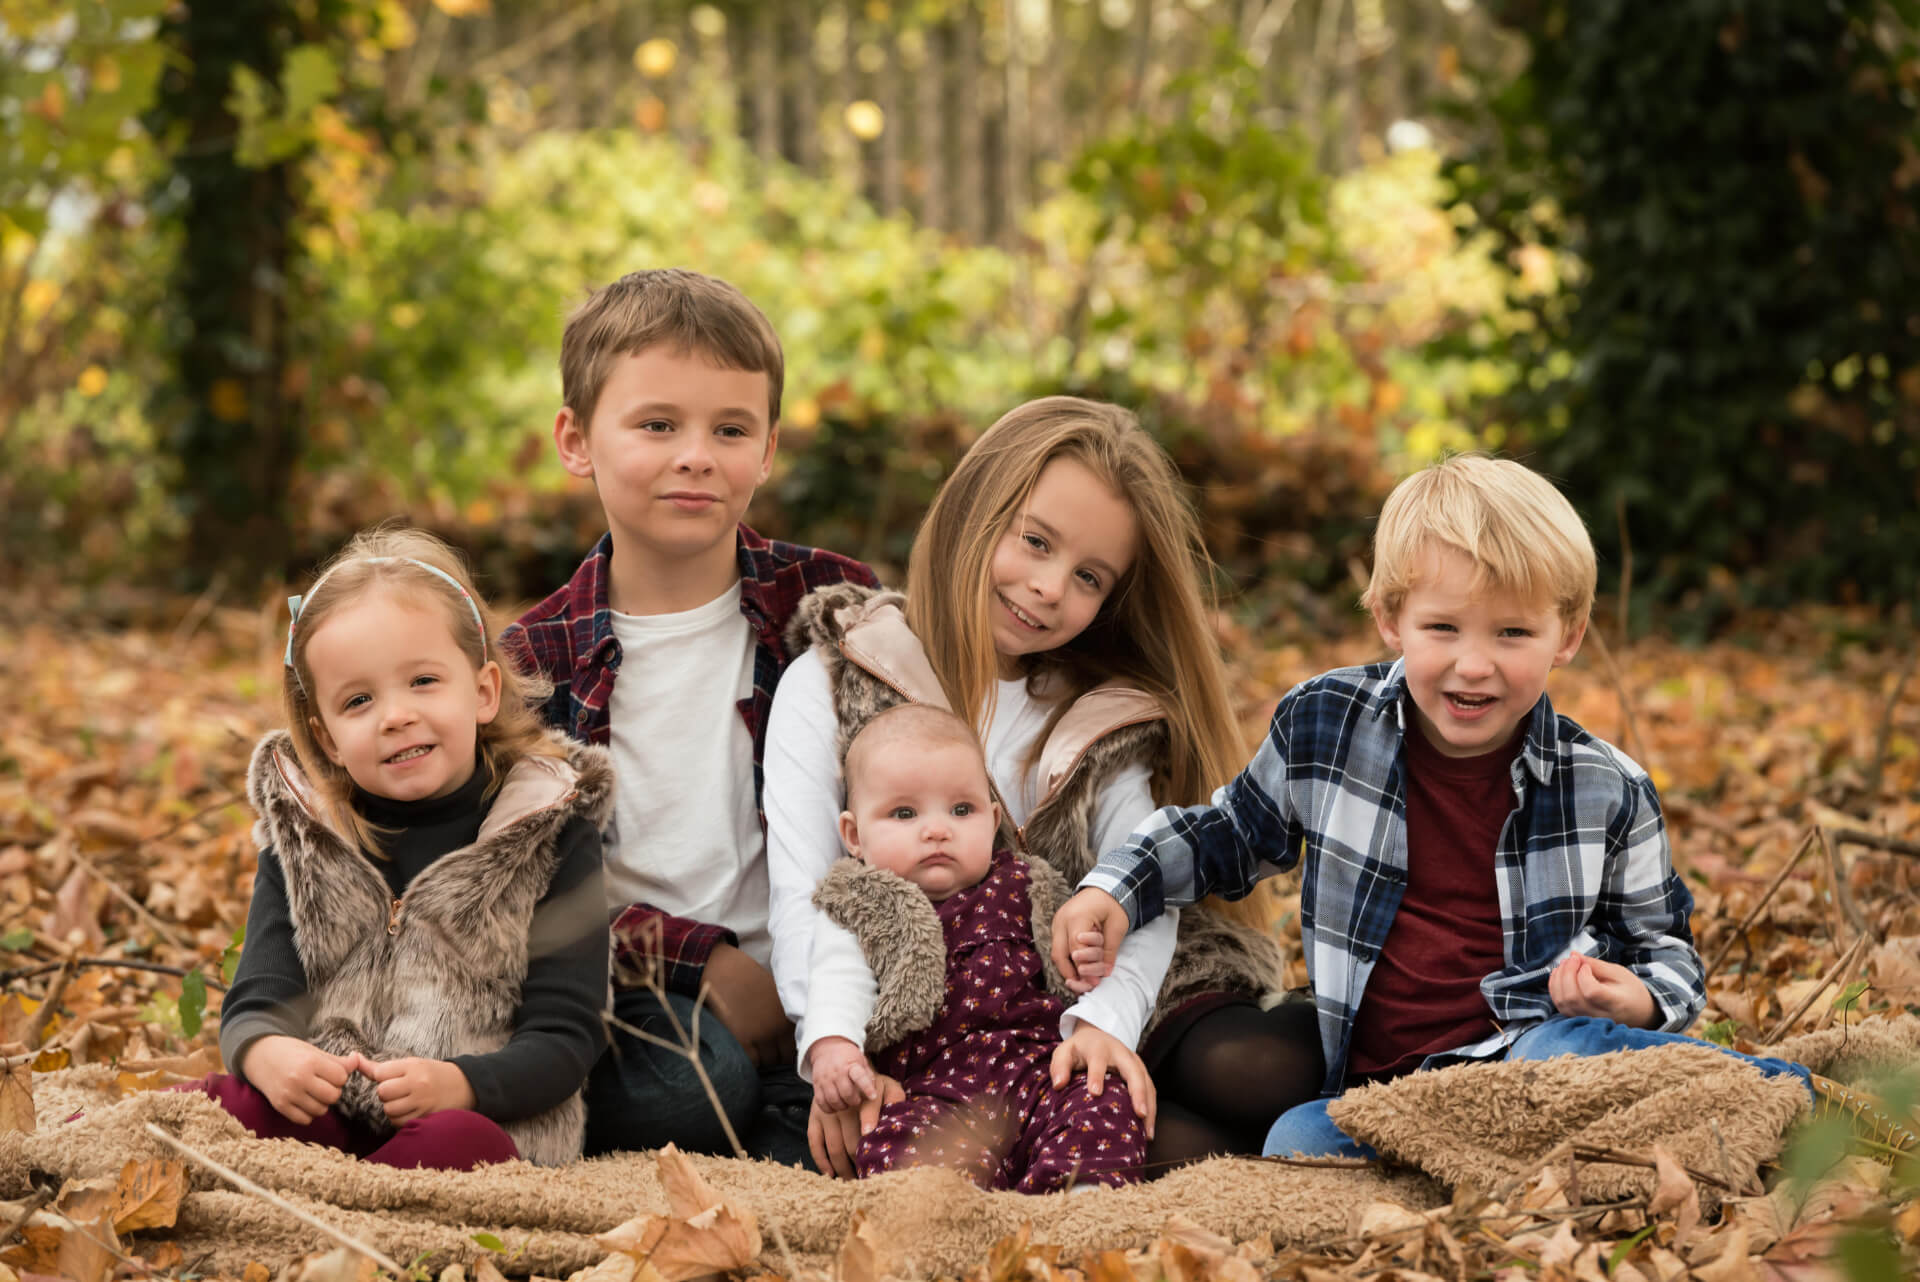Person: (510, 281, 800, 1091), (220, 461, 520, 1201), (1330, 421, 1630, 1151), (980, 441, 1160, 751)
